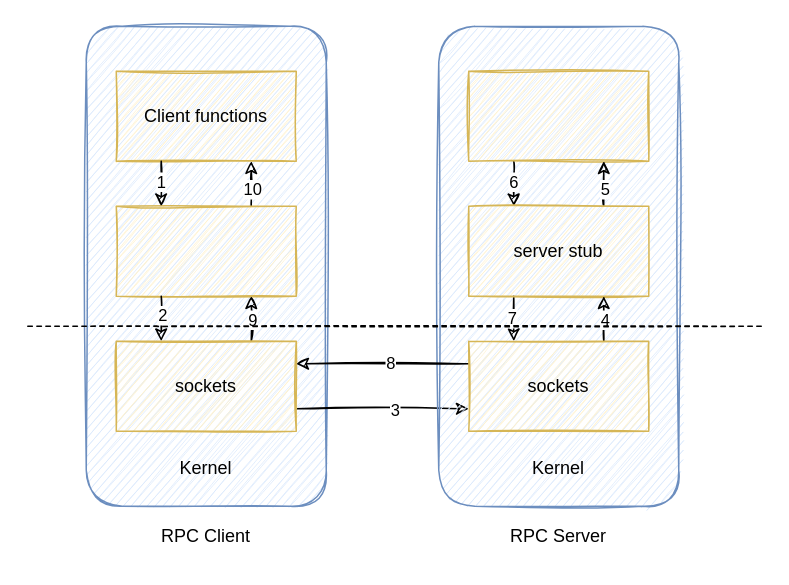
This 789x585 diagram has some shape labels left out. Each missing label, with the box of its shape:
client stub: (115, 205, 296, 296)
Server functions: (467, 70, 649, 161)
